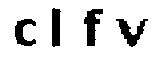c: (9, 17, 39, 50)
f: (79, 6, 110, 55)
l: (46, 7, 68, 54)
v: (113, 15, 149, 51)
